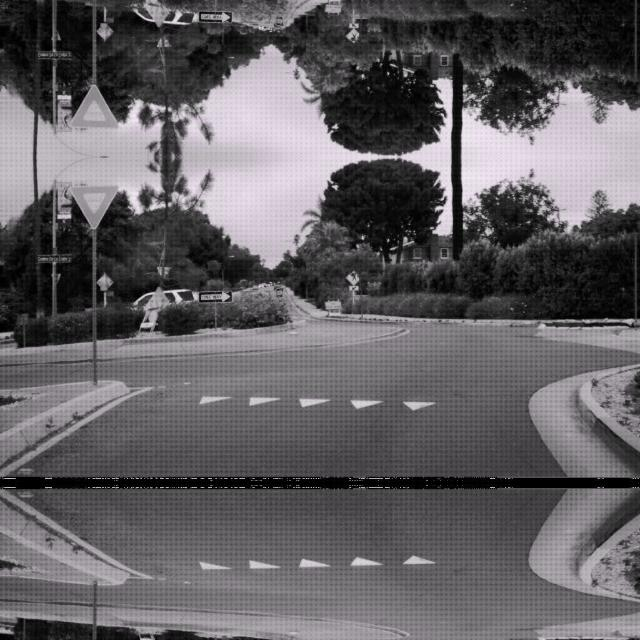yield: (569, 187, 621, 235), (569, 77, 621, 125), (68, 182, 118, 228), (68, 84, 118, 130)
